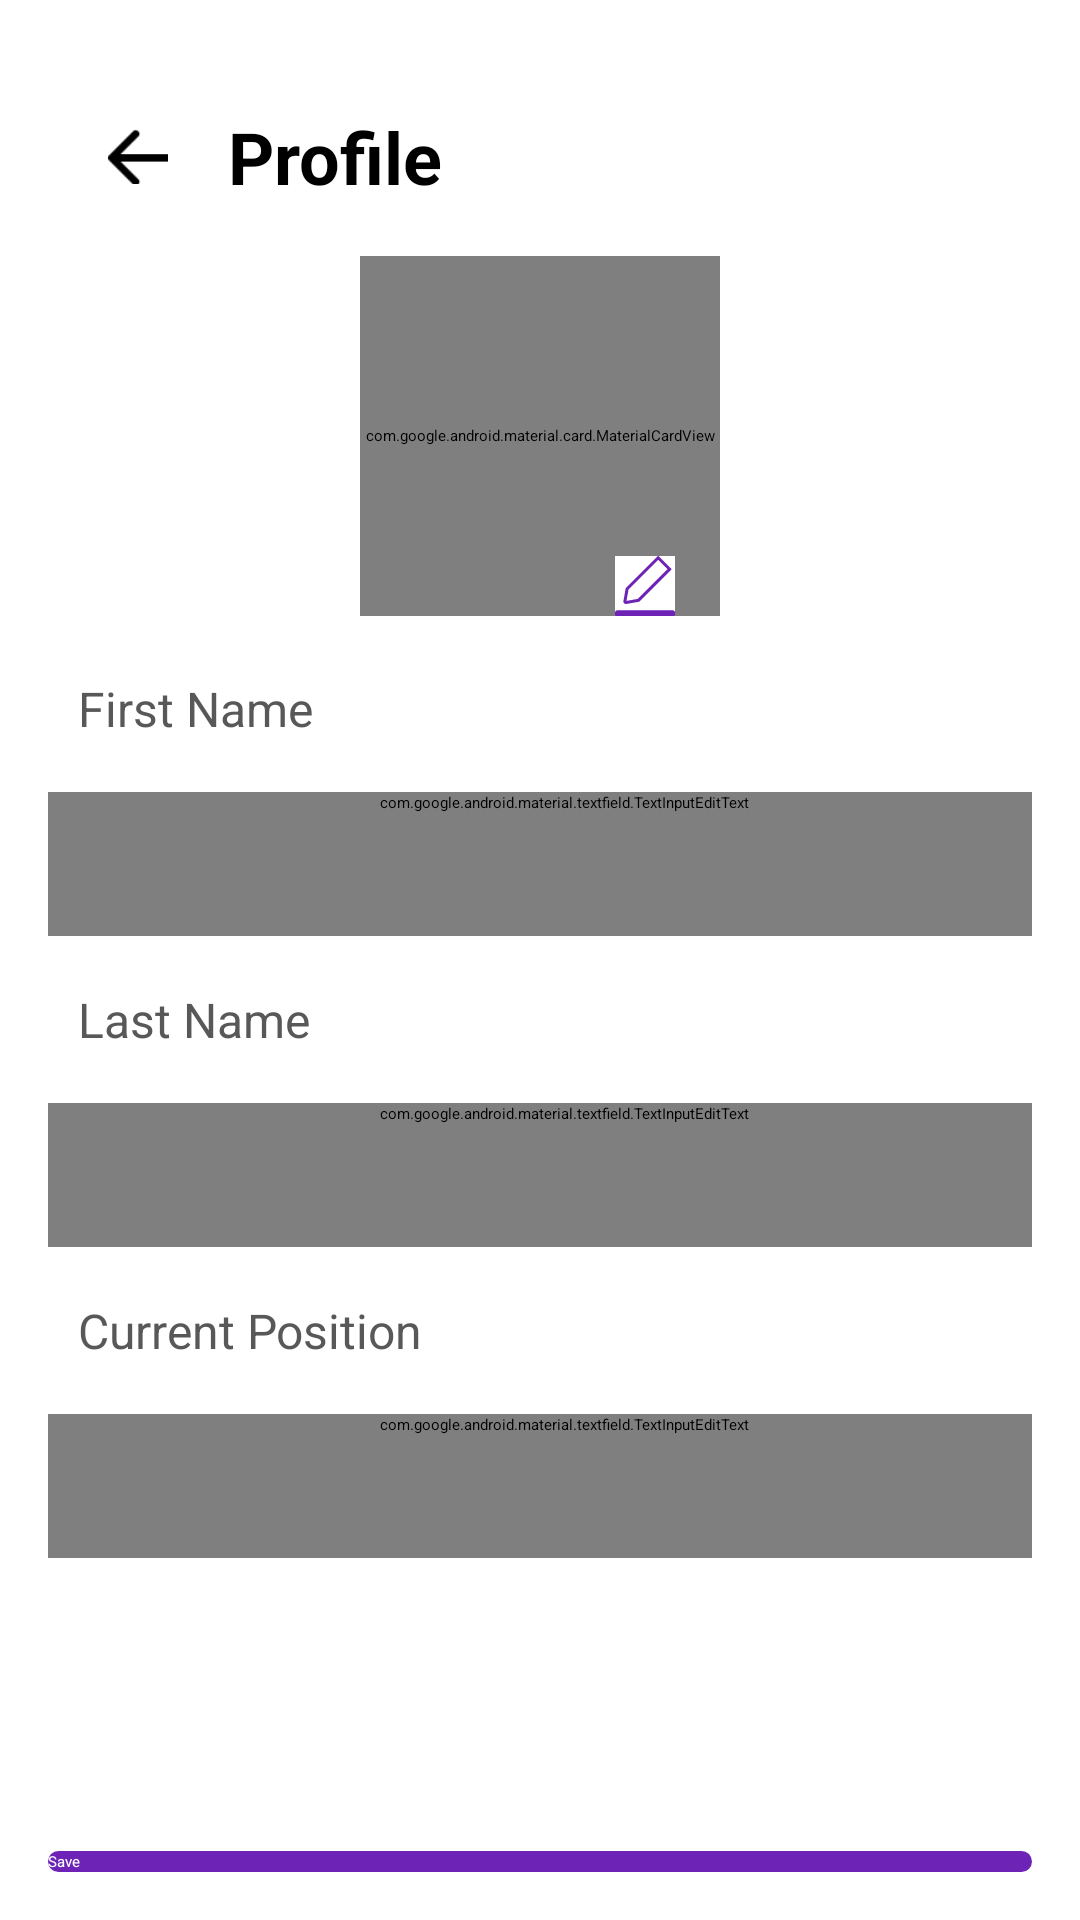

Named icons in this screenshot (1080 x 1920) and their centers, (x=x, y=y):
back arrow: (x=138, y=157)
